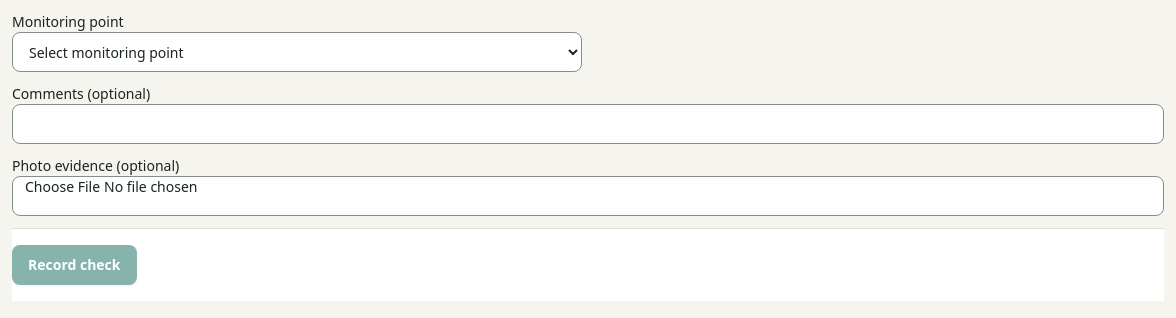
Test: MonitoringRecordForm check choice › keeps the drop-down for checks that have no time of day, which the clock cannot tell apart
Step 1. Select "Chiller #25 - 2 checks, choose one" in the dropdown labelled "Monitoring point" → (297, 52), box [12, 32, 582, 72]
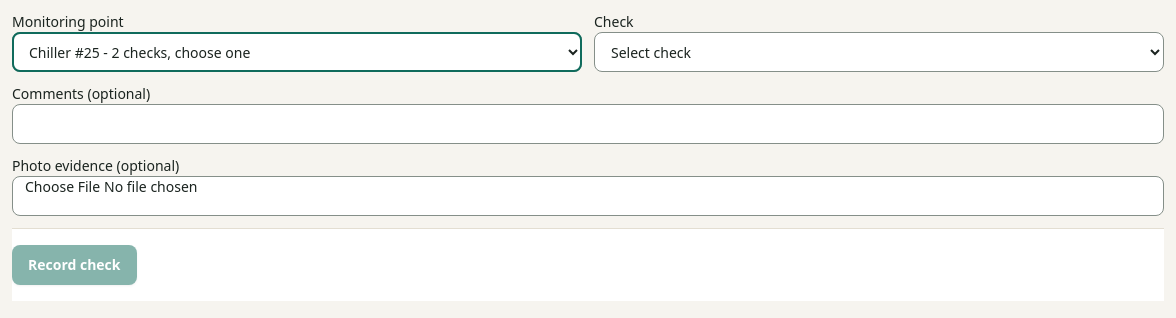
Check: the dropdown labelled "Check" is shown, box [594, 32, 1164, 72]
